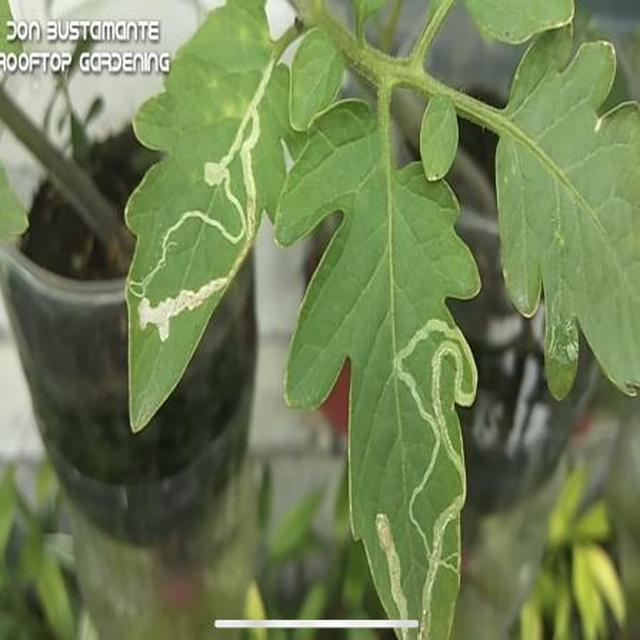Leaf Miner: (230, 313, 536, 640)
